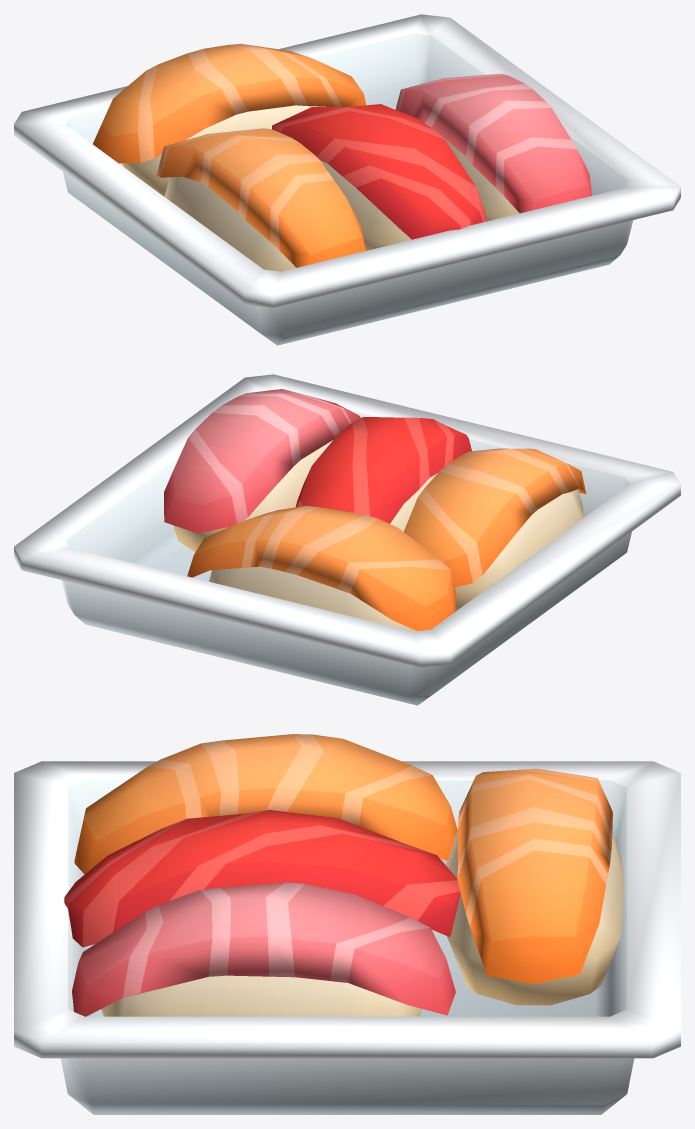
The model's file is Set_1_008.gltf.
3 renders of one model, top to bottom at view 1: azimuth 30°, elevation 25°; view 2: azimuth 150°, elevation 25°; view 3: azimuth 270°, elevation 25°, orthographic. The views are drawn at different scales.
Parts seen in each view (by area): view 1: Box_Plastic_White_Small_002.001, Nigiri_Salmon_002.001, Nigiri_Salmon_002.002, Nigiri_Tuna_001.001, Nigiri_Tuna_Fat_001.001; view 2: Box_Plastic_White_Small_002.001, Nigiri_Salmon_002.002, Nigiri_Tuna_Fat_001.001, Nigiri_Salmon_002.001, Nigiri_Tuna_001.001; view 3: Box_Plastic_White_Small_002.001, Nigiri_Tuna_Fat_001.001, Nigiri_Salmon_002.002, Nigiri_Tuna_001.001, Nigiri_Salmon_002.001.
Part boxes in pixels (box(x1,y1,x2,y2)): Box_Plastic_White_Small_002.001: box(14, 14, 680, 345); Nigiri_Salmon_002.001: box(156, 128, 365, 271); Nigiri_Salmon_002.002: box(93, 43, 366, 196); Nigiri_Tuna_001.001: box(272, 104, 486, 250); Nigiri_Tuna_Fat_001.001: box(395, 73, 591, 221); Box_Plastic_White_Small_002.001: box(14, 374, 680, 705); Nigiri_Salmon_002.002: box(187, 505, 456, 631); Nigiri_Tuna_Fat_001.001: box(164, 389, 360, 551); Nigiri_Salmon_002.001: box(404, 448, 586, 611); Nigiri_Tuna_001.001: box(295, 416, 471, 531); Box_Plastic_White_Small_002.001: box(14, 761, 680, 1114); Nigiri_Tuna_Fat_001.001: box(72, 882, 455, 1016); Nigiri_Salmon_002.002: box(445, 768, 623, 1005); Nigiri_Tuna_001.001: box(64, 810, 460, 947); Nigiri_Salmon_002.001: box(74, 734, 457, 874).
Size of the model in its own units: 2 by 0.6135 by 2.
Materials: 1 (1 with a texture image).
